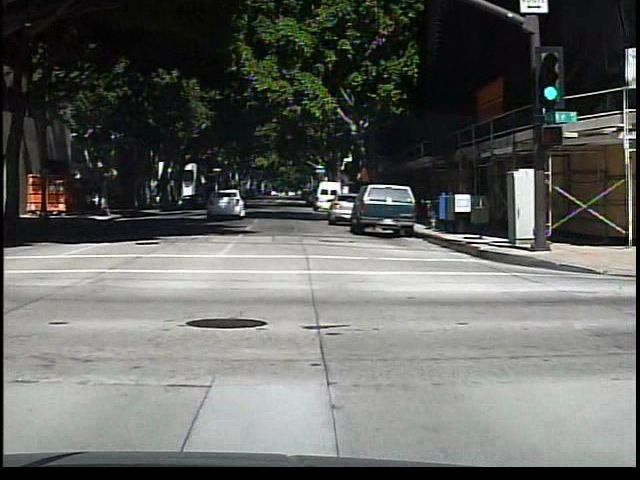person: (86, 182, 102, 217)
